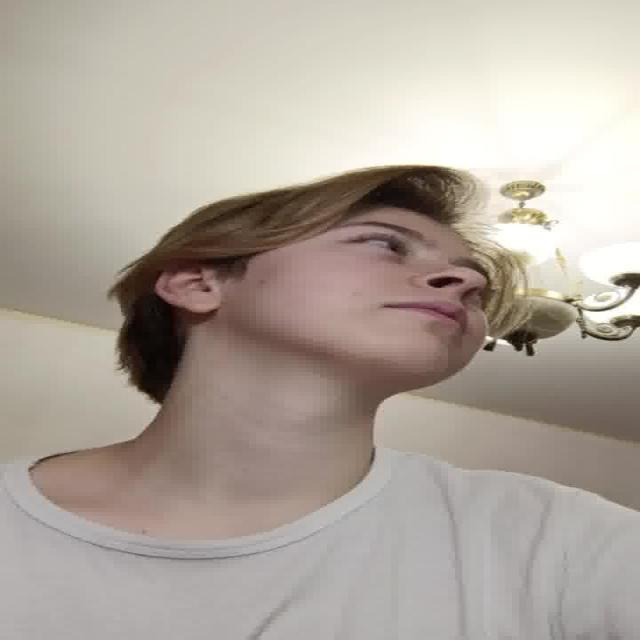earlobe: (178, 295, 225, 315)
eye: (343, 234, 418, 257)
nose: (421, 284, 478, 304)
wholeear: (157, 269, 227, 315)
